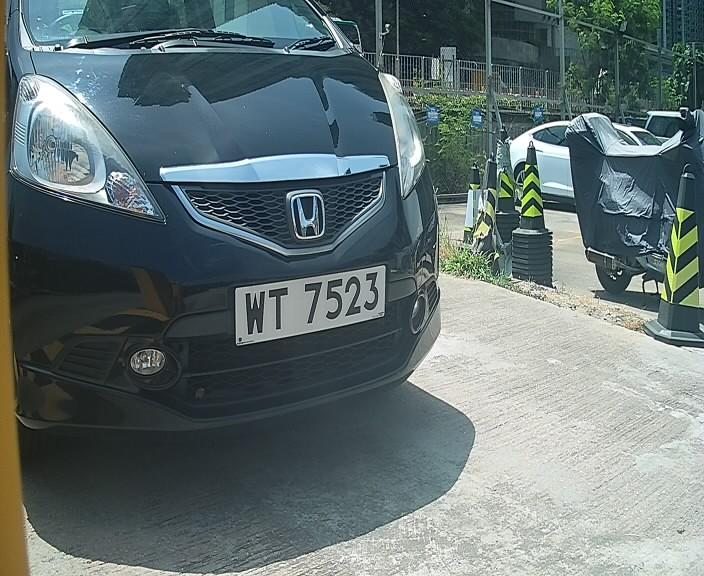License Plate: (230, 260, 390, 348)
